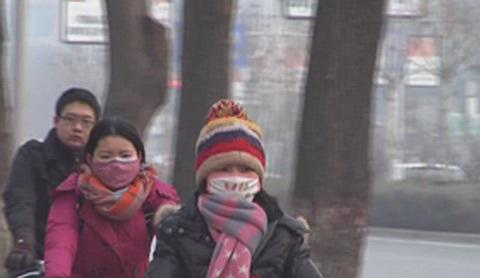NONE: (60, 113, 97, 147)
OK: (209, 164, 263, 208), (95, 144, 142, 191)
